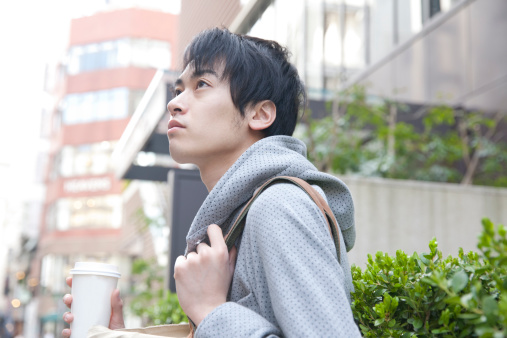em pe: (92, 21, 375, 338)
